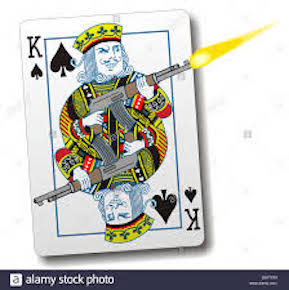KingOfSpades: (20, 6, 208, 259)
